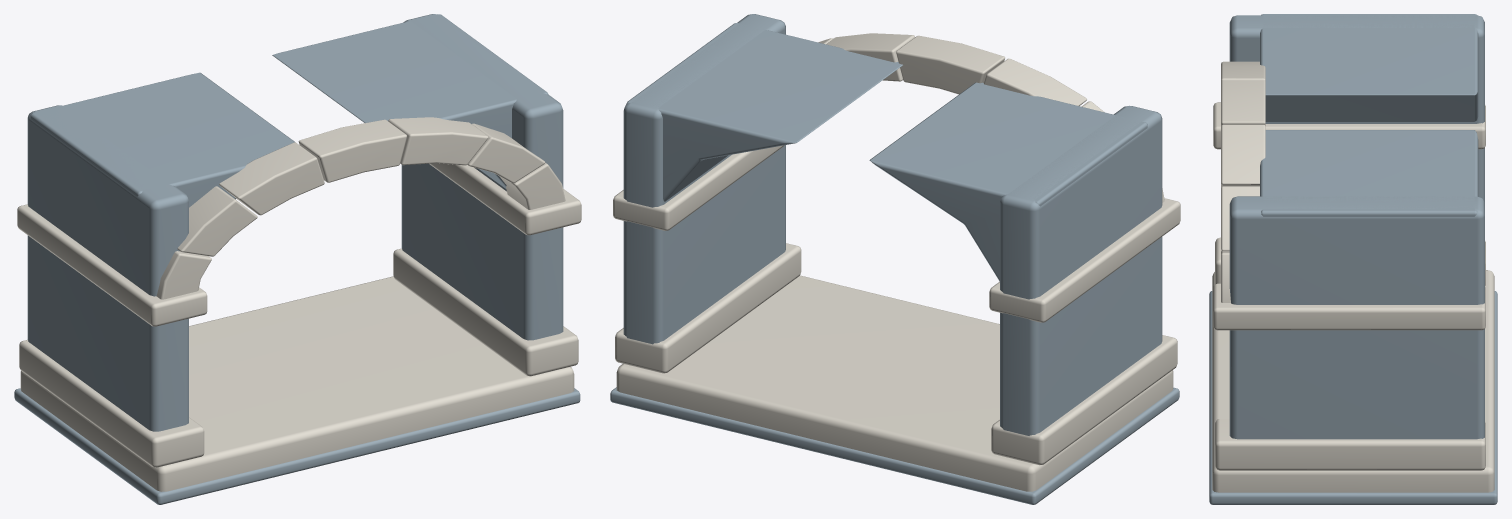
Rendered from TowerRoom.fbx.
3 views of the same model, side by side, from view 1: azimuth 30°, elevation 25°; view 2: azimuth 150°, elevation 25°; view 3: azimuth 270°, elevation 25° (orthographic).
Visible parts, largest first — view 1: TowerRoom_Keep_Ashlar, TowerRoom_Keep_Limestone; view 2: TowerRoom_Keep_Ashlar, TowerRoom_Keep_Limestone; view 3: TowerRoom_Keep_Ashlar, TowerRoom_Keep_Limestone.
Part boxes in pixels (x1,y1,x2,y2): TowerRoom_Keep_Ashlar: (14, 14, 580, 504); TowerRoom_Keep_Limestone: (17, 117, 581, 491); TowerRoom_Keep_Ashlar: (610, 14, 1179, 504); TowerRoom_Keep_Limestone: (613, 33, 1180, 491); TowerRoom_Keep_Ashlar: (1209, 14, 1497, 504); TowerRoom_Keep_Limestone: (1212, 61, 1494, 492).
Size of the model in its own units: 253 by 173 by 148.
